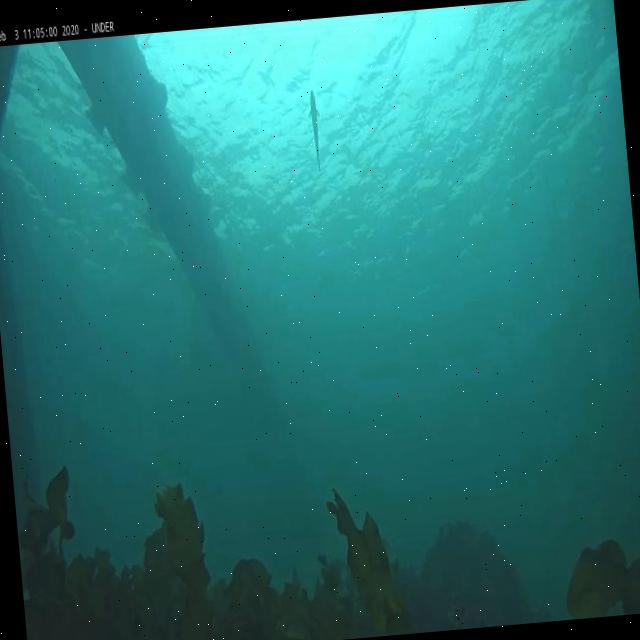fish: (306, 88, 326, 172)
